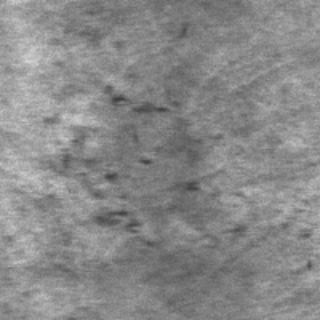rolled pit: (66, 82, 194, 236), (262, 184, 318, 266)
